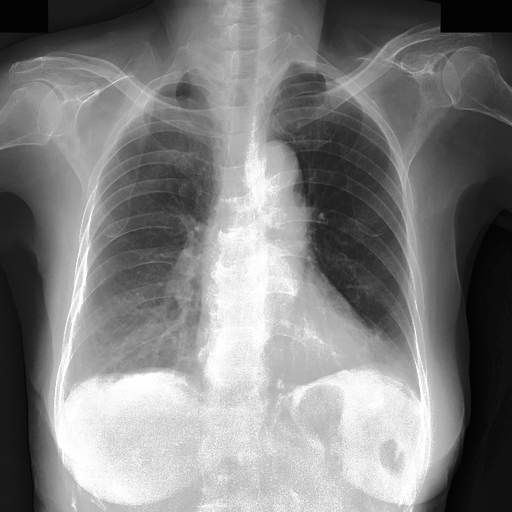Calcification: (155, 83, 190, 92)
Consolidation: (261, 144, 306, 202)
Nodule/Mass: (192, 322, 379, 392)
Other lesion: (72, 366, 189, 382)
